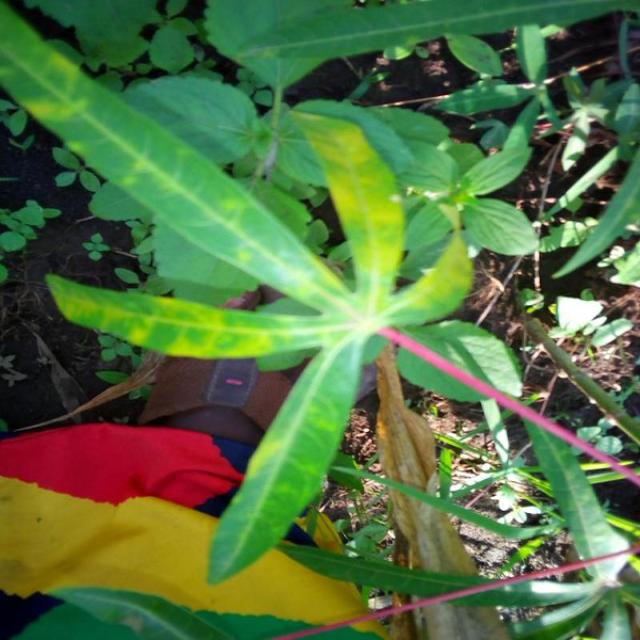cassava leaf: (44, 96, 532, 581)
